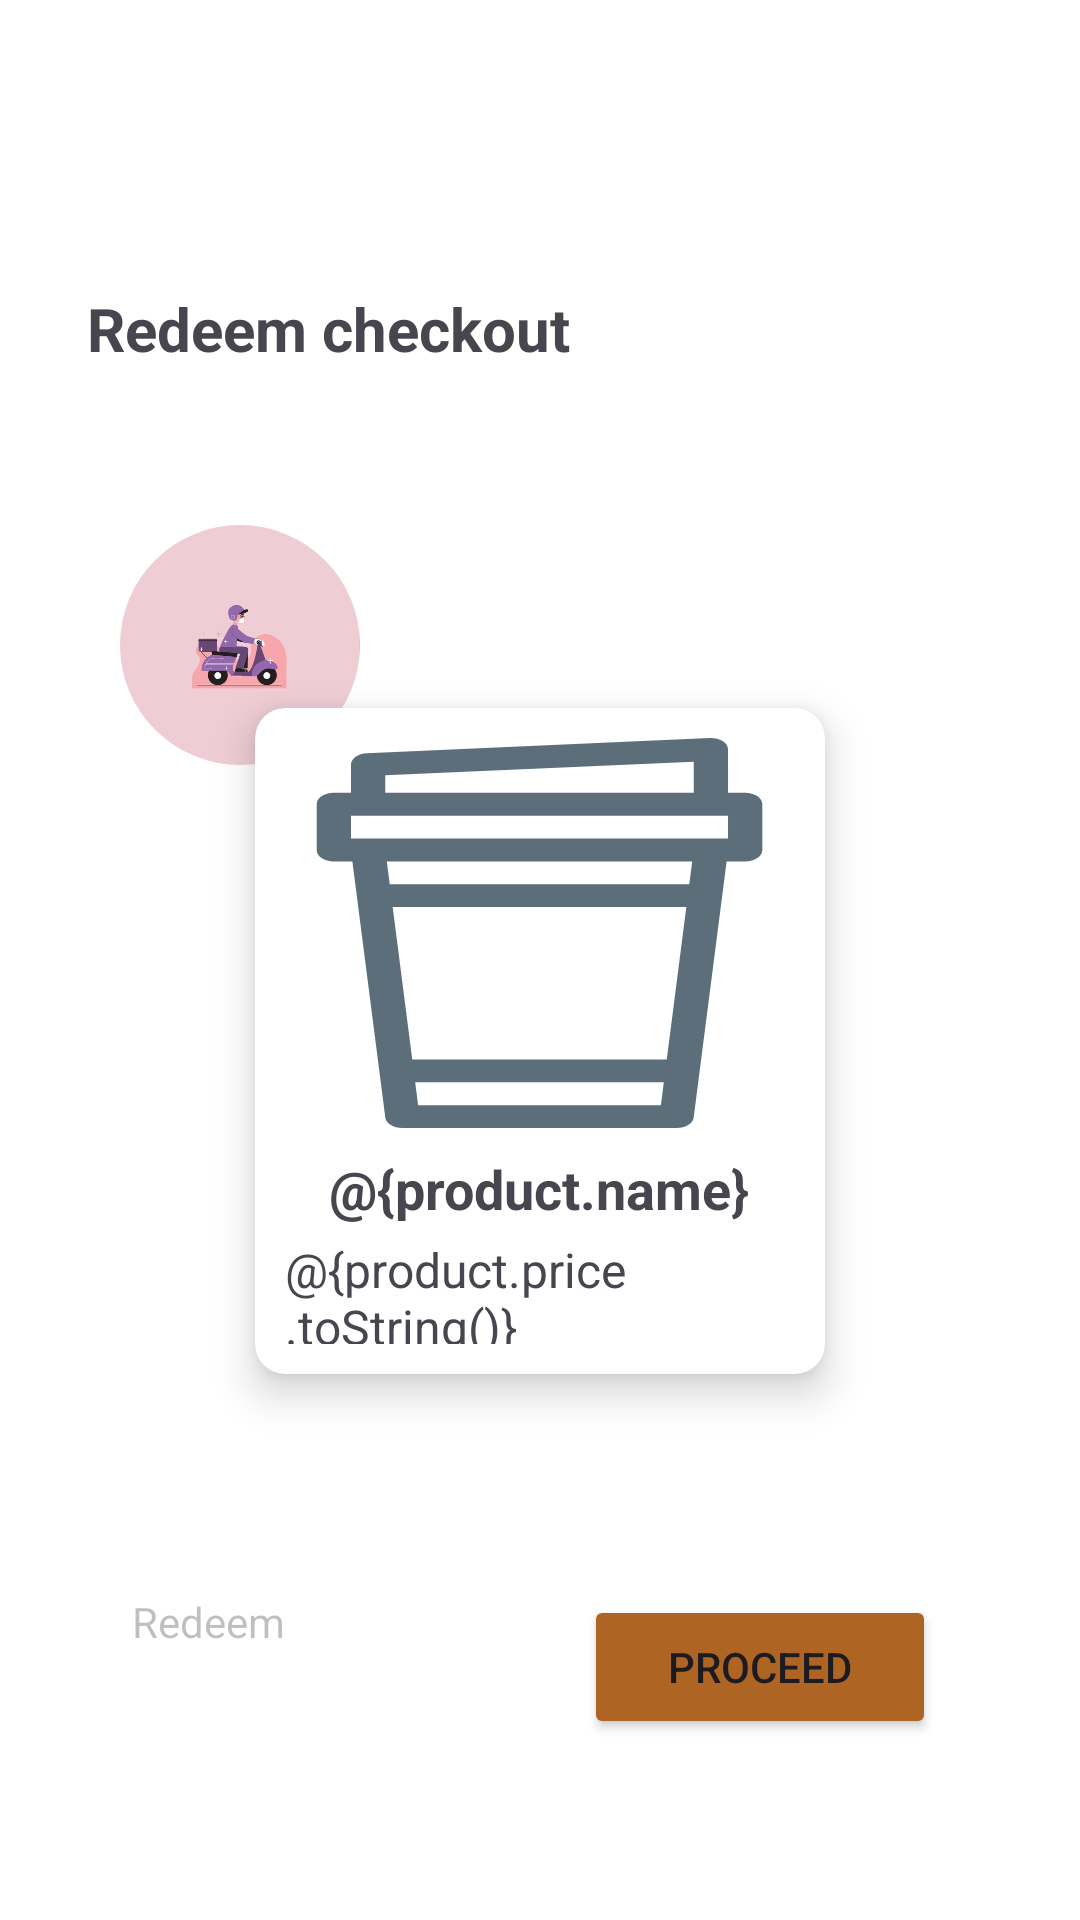

Icons on this 1080px x 1920px Android screen, each with the point to tap as (x,y):
order: (240,645)
